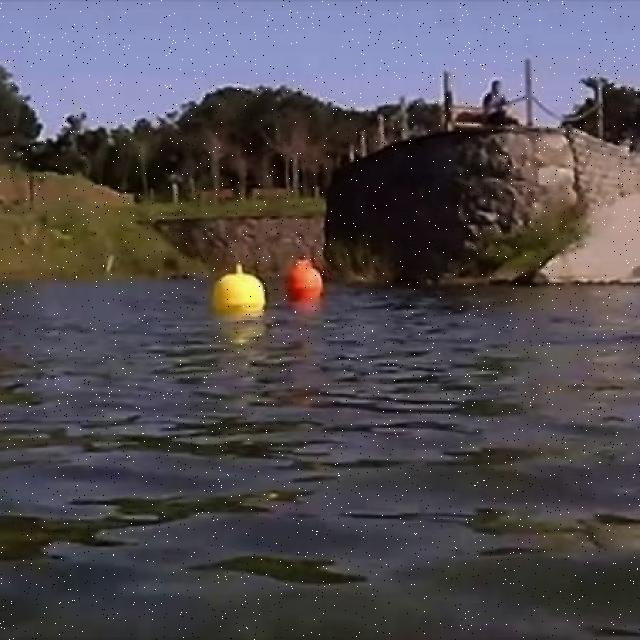buoy: (214, 267, 268, 313), (284, 261, 324, 301)
